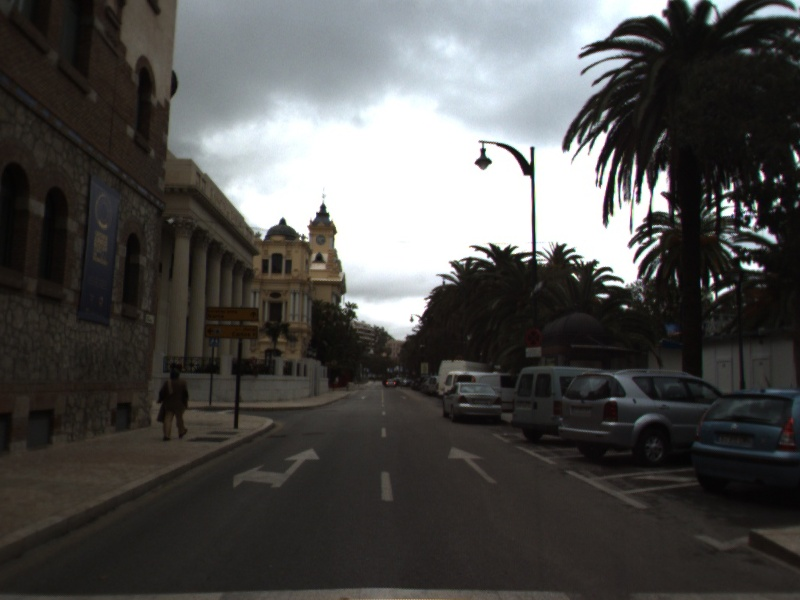STRAIGHT: (446, 444, 499, 485)
STRAIGHT_LEFT: (231, 446, 322, 491)
